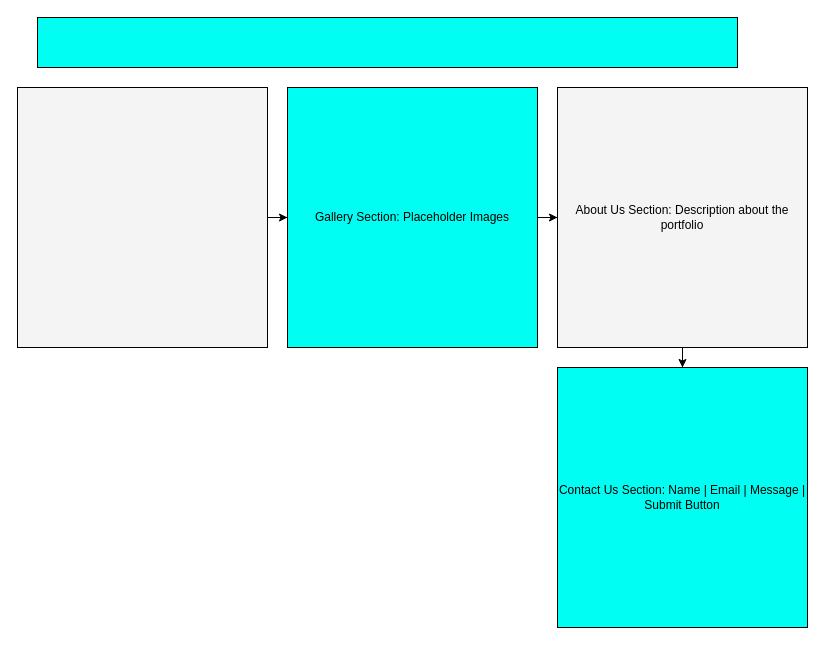
Some shapes in this 825 by 645 pixel diagram are drawn without their labels. Here are the shapes that lost their labels. From the top down, the centre of each, then its label:
At (x=387, y=42): "Navigation Bar: Home | Gallery | About Us | Contact Us".
At (x=142, y=217): "Hero Section: Welcome to My Photography Portfolio".
